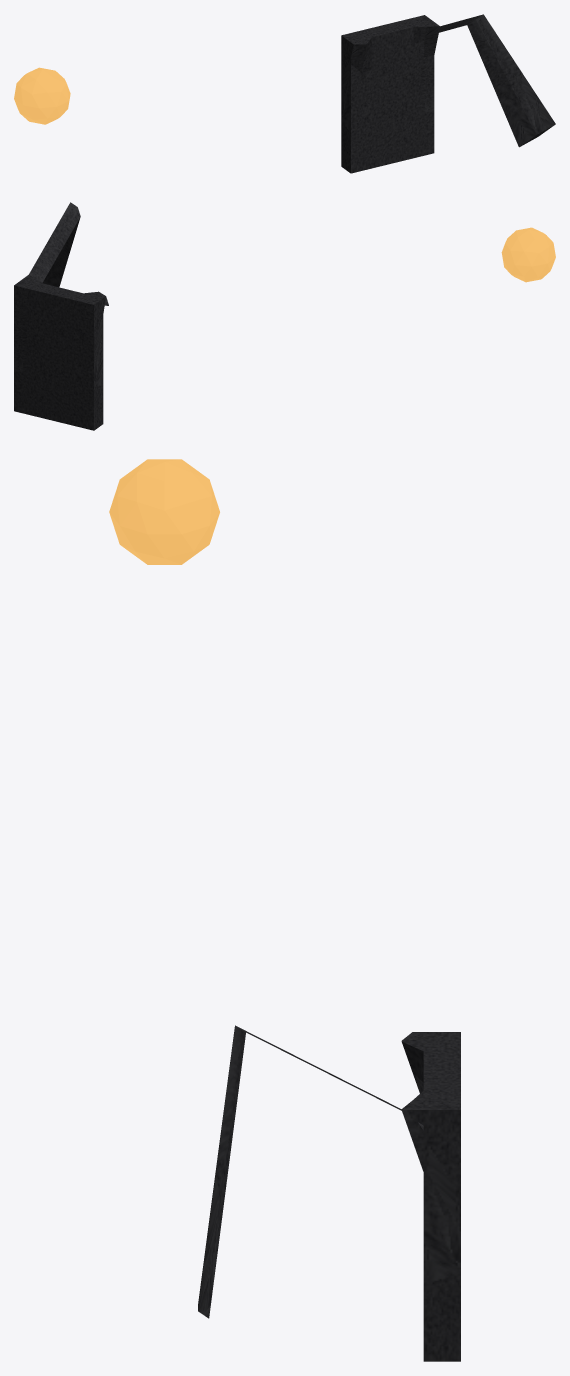
Rendered from wall_sconce_r4.glb.
The picture shows the model from 3 angles, top to bottom: view 1: azimuth 30°, elevation 25°; view 2: azimuth 150°, elevation 25°; view 3: azimuth 270°, elevation 25°; orthographic projection. The views are drawn at different scales.
Parts seen in each view (by area): view 1: wall_sconce_lp, sconce_flame; view 2: wall_sconce_lp, sconce_flame; view 3: wall_sconce_lp, sconce_flame.
Part boxes in pixels (<box>): wall_sconce_lp: <box>341,14,555,173</box>; sconce_flame: <box>14,67,70,124</box>; wall_sconce_lp: <box>14,202,108,430</box>; sconce_flame: <box>501,227,555,282</box>; wall_sconce_lp: <box>198,1025,460,1361</box>; sconce_flame: <box>109,459,219,564</box>.
Bounding box in the file's own units: 1.31 × 0.56 × 0.38.
Materials: 2 (1 with a texture image).
